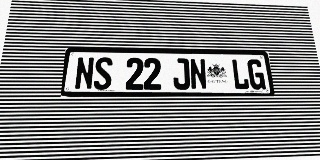2: (126, 57, 143, 90), (144, 58, 161, 90)
G: (247, 59, 266, 90)
J: (173, 58, 190, 90)
L: (231, 59, 250, 90)
N: (74, 57, 95, 90), (189, 58, 207, 90)
S: (93, 57, 113, 90)
